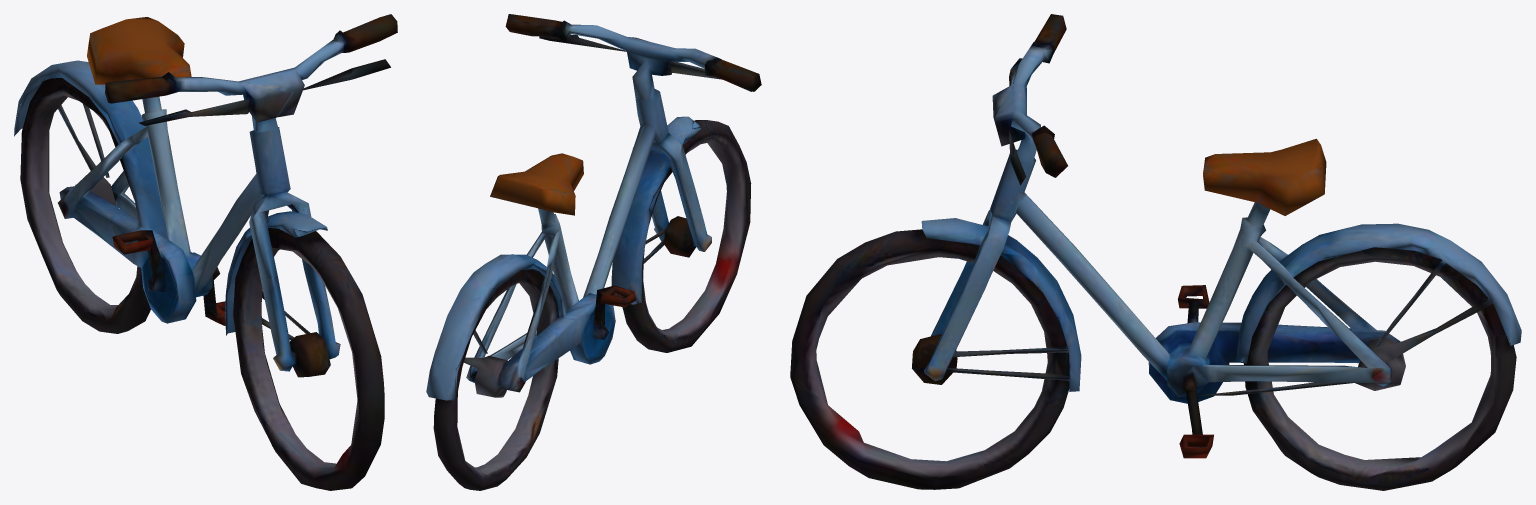
Rendered from bike.glb.
3 views of the same model, side by side, from view 1: azimuth 30°, elevation 25°; view 2: azimuth 150°, elevation 25°; view 3: azimuth 270°, elevation 25° (orthographic). The views are drawn at different scales.
Parts seen in each view (by area): view 1: tripo_node_a1ffb752-22c3-4ffd-ac8a-06e515b378dd; view 2: tripo_node_a1ffb752-22c3-4ffd-ac8a-06e515b378dd; view 3: tripo_node_a1ffb752-22c3-4ffd-ac8a-06e515b378dd.
Part boxes in pixels (<box>): tripo_node_a1ffb752-22c3-4ffd-ac8a-06e515b378dd: <box>14,14,397,490</box>; tripo_node_a1ffb752-22c3-4ffd-ac8a-06e515b378dd: <box>426,14,761,490</box>; tripo_node_a1ffb752-22c3-4ffd-ac8a-06e515b378dd: <box>790,14,1521,490</box>.
Size of the model in its own units: 0.4678 by 0.613 by 0.9989.
Materials: 1 (1 with a texture image).
